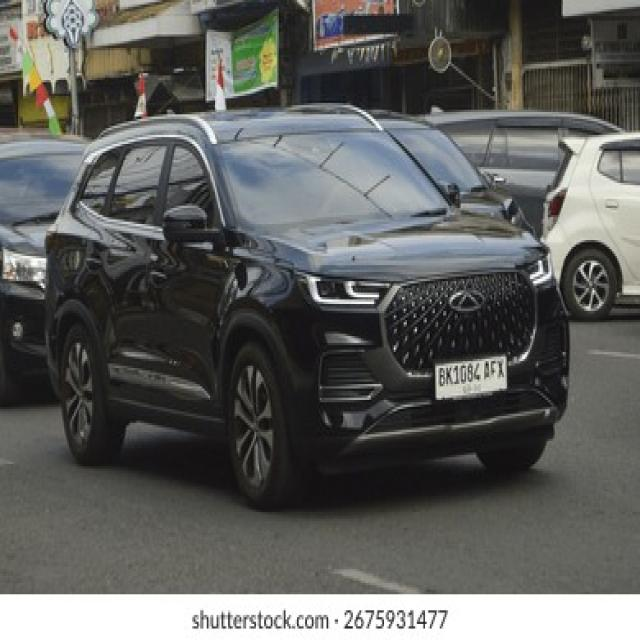cherry: (450, 288, 484, 311)
